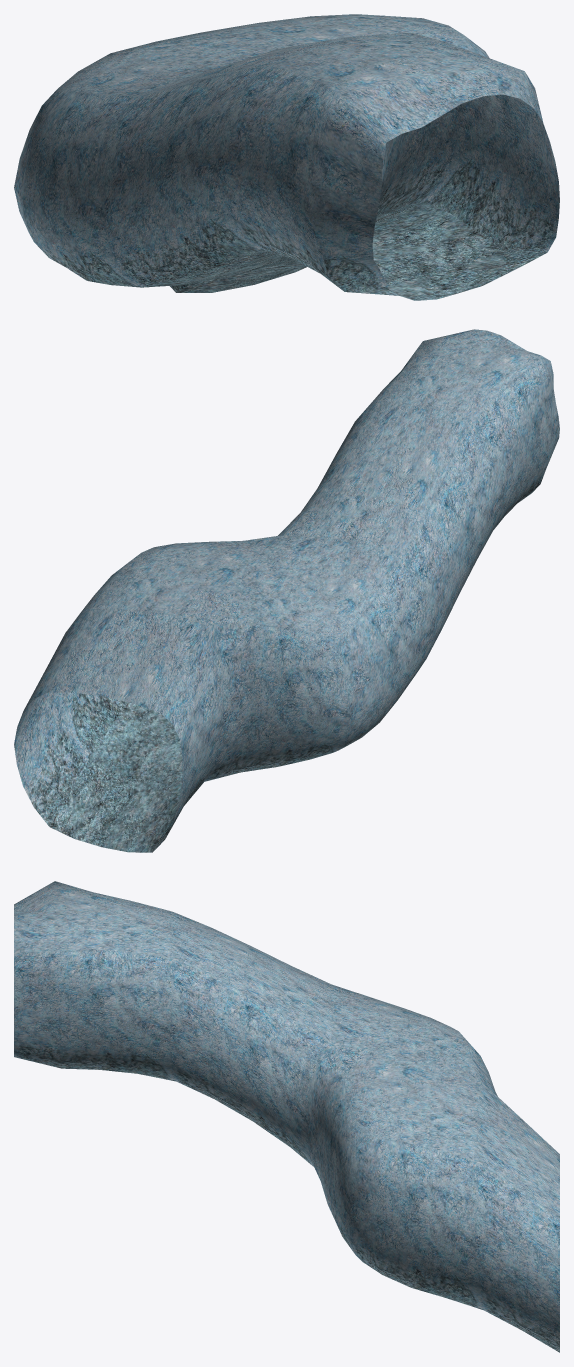
File: thm_all_cave_flatland_s01_ice_r1_mesh_r1.fbx
3 renders of one model, top to bottom at view 1: azimuth 30°, elevation 25°; view 2: azimuth 150°, elevation 25°; view 3: azimuth 270°, elevation 25°, orthographic. The views are drawn at different scales.
Parts seen in each view (by area): view 1: mesh_node; view 2: mesh_node; view 3: mesh_node.
Boxes of the visible parts, x1,y1,x2,y2 form: mesh_node: [14, 14, 559, 300]; mesh_node: [14, 329, 559, 852]; mesh_node: [14, 881, 559, 1352].
Bounding box in the file's own units: 22.85 × 25.54 × 35.
